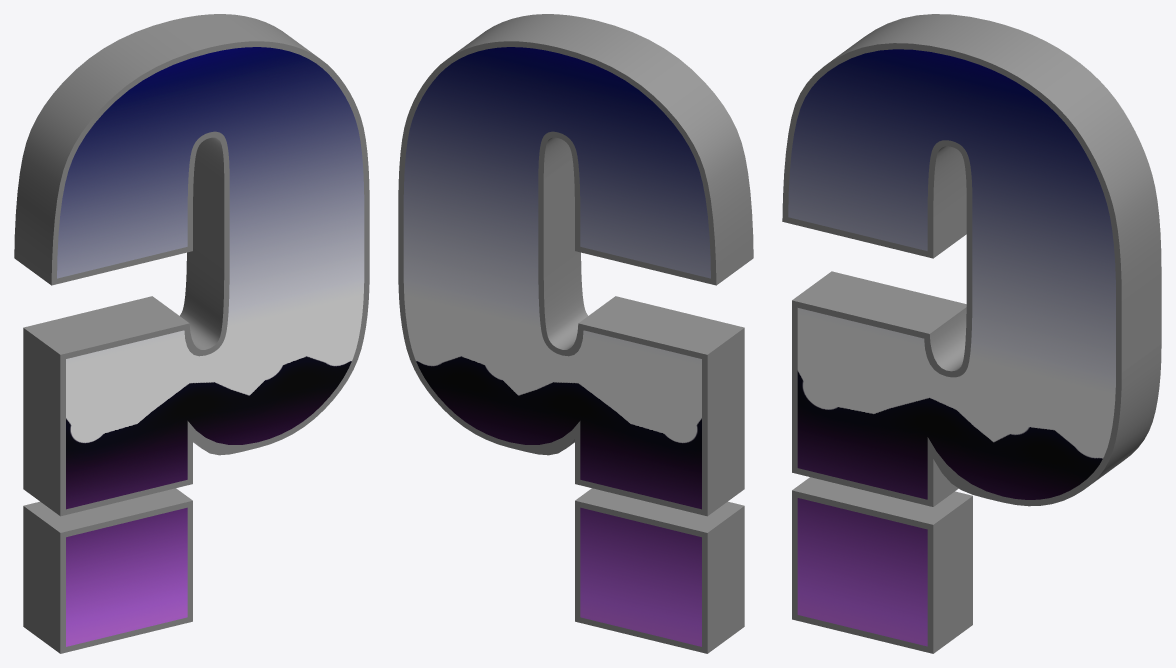
File: Question.FBX
The picture shows the model from 3 angles, left to right: view 1: azimuth 30°, elevation 25°; view 2: azimuth 150°, elevation 25°; view 3: azimuth 330°, elevation 25°; orthographic projection. The views are drawn at different scales.
Visible parts, largest first — view 1: Question, Question_outline; view 2: Question, Question_outline; view 3: Question, Question_outline.
Boxes of the visible parts, bbox=[...] form: Question: bbox=[57, 47, 364, 646]; Question_outline: bbox=[14, 14, 369, 653]; Question: bbox=[403, 47, 710, 646]; Question_outline: bbox=[398, 14, 753, 653]; Question: bbox=[788, 49, 1115, 646]; Question_outline: bbox=[782, 14, 1161, 653].
Bounding box in the file's own units: 59.16 × 101 × 12.
Materials: 2 (1 with a texture image).
